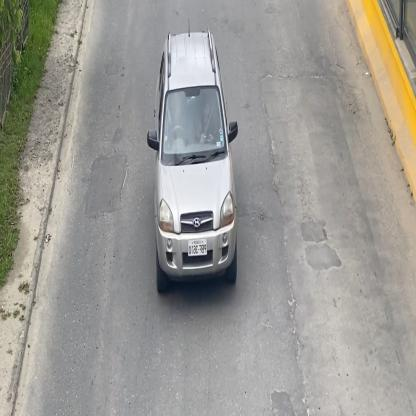Placa: (188, 238, 207, 257)
